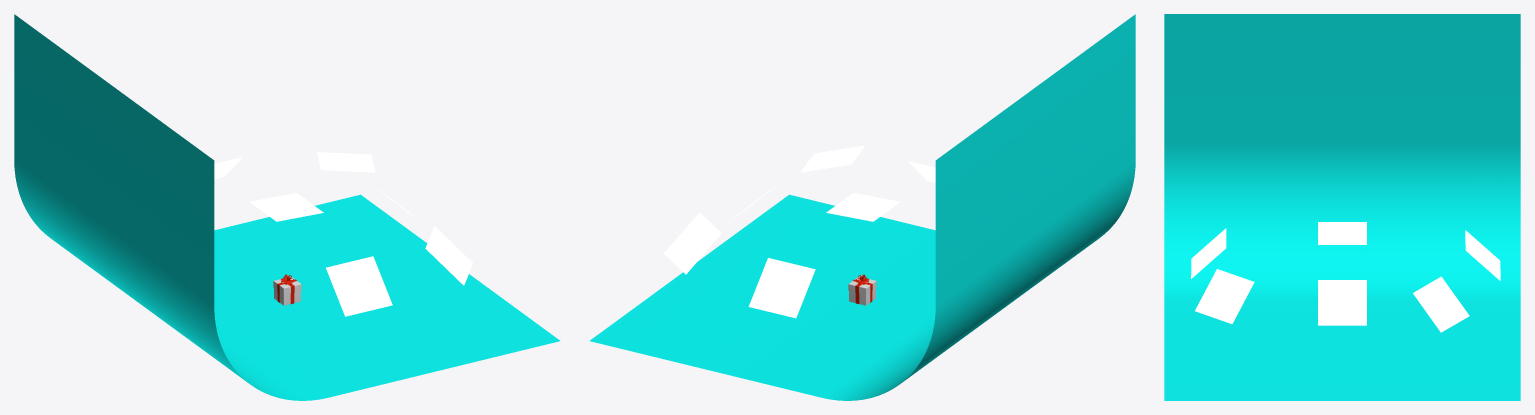
Rendered from gift.glb.
The picture shows the model from 3 angles, left to right: view 1: azimuth 30°, elevation 25°; view 2: azimuth 150°, elevation 25°; view 3: azimuth 270°, elevation 25°; orthographic projection. The views are drawn at different scales.
Parts seen in each view (by area): view 1: Plane.001, Plane.006, Plane.005, Plane.002, Plane.004; view 2: Plane.001, Plane.003, Plane.004, Plane.002, Plane.005; view 3: Plane.001, Plane, Plane.005, Plane.004, Plane.002, Plane.003, Plane.006.
Boxes of the visible parts, left/top/right/bottom form: Plane.001: left=14, top=14, right=559, bottom=400; Plane.006: left=326, top=256, right=392, bottom=316; Plane.005: left=425, top=226, right=472, bottom=285; Plane.002: left=249, top=193, right=323, bottom=221; Plane.004: left=317, top=152, right=375, bottom=172; Plane.001: left=590, top=14, right=1135, bottom=400; Plane.003: left=748, top=258, right=815, bottom=318; Plane.004: left=664, top=212, right=721, bottom=274; Plane.002: left=826, top=193, right=900, bottom=221; Plane.005: left=800, top=145, right=864, bottom=172; Plane.001: left=1164, top=14, right=1520, bottom=400; Plane: left=1318, top=280, right=1366, bottom=325; Plane.005: left=1195, top=269, right=1254, bottom=323; Plane.004: left=1413, top=276, right=1469, bottom=332; Plane.002: left=1318, top=222, right=1366, bottom=244; Plane.003: left=1465, top=230, right=1500, bottom=280; Plane.006: left=1191, top=228, right=1226, bottom=278.
Bounding box in the file's own units: 39.85 × 29.14 × 39.85.
